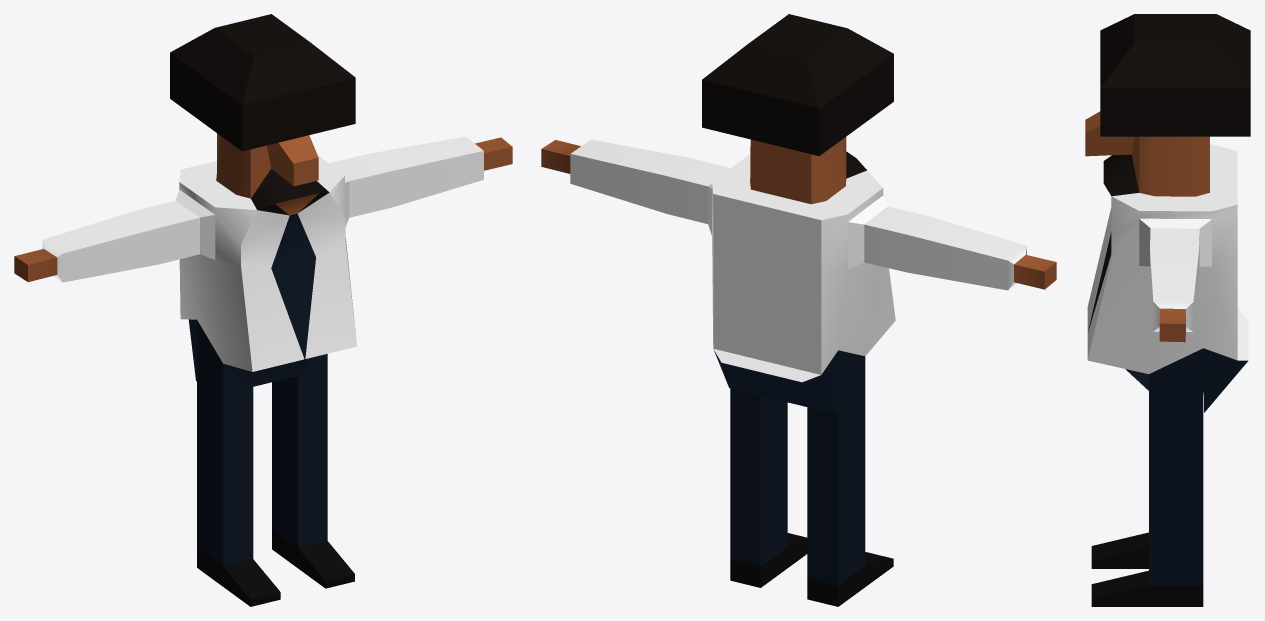
Rendered from Player_snor.obj.
The picture shows the model from 3 angles, left to right: view 1: azimuth 30°, elevation 25°; view 2: azimuth 150°, elevation 25°; view 3: azimuth 270°, elevation 25°; orthographic projection. The views are drawn at different scales.
Visible parts, largest first — view 1: pCube1; view 2: pCube1; view 3: pCube1.
Part boxes in pixels (x1,y1,x2,y2): pCube1: (14, 14, 512, 606); pCube1: (541, 14, 1056, 606); pCube1: (1085, 14, 1250, 606).
Size of the model in its own units: 3.4 by 3.54 by 0.9605.
